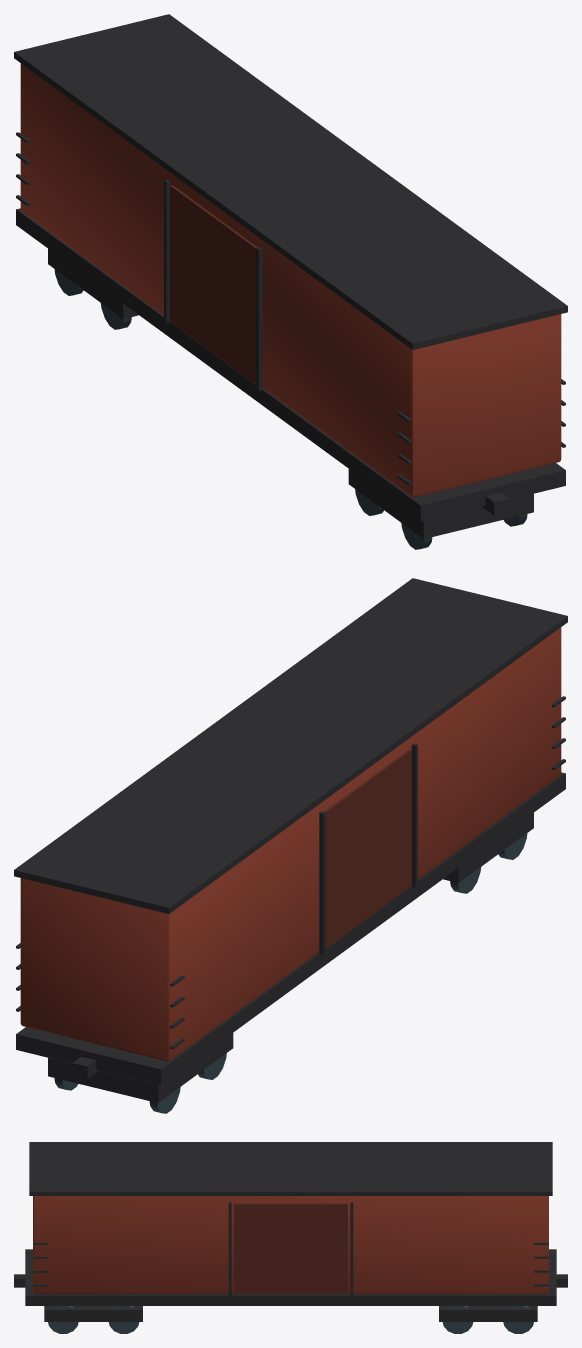
File: roadevents_train_box.glb
The picture shows the model from 3 angles, top to bottom: view 1: azimuth 30°, elevation 25°; view 2: azimuth 150°, elevation 25°; view 3: azimuth 270°, elevation 25°; orthographic projection. The views are drawn at different scales.
Visible parts, largest first — view 1: TrainBox; view 2: TrainBox; view 3: TrainBox.
Part boxes in pixels (x1,y1,x2,y2): TrainBox: (14,14,567,549); TrainBox: (14,578,567,1113); TrainBox: (14,1142,567,1333).
Size of the model in its own units: 3.18 by 4.38 by 14.6.
